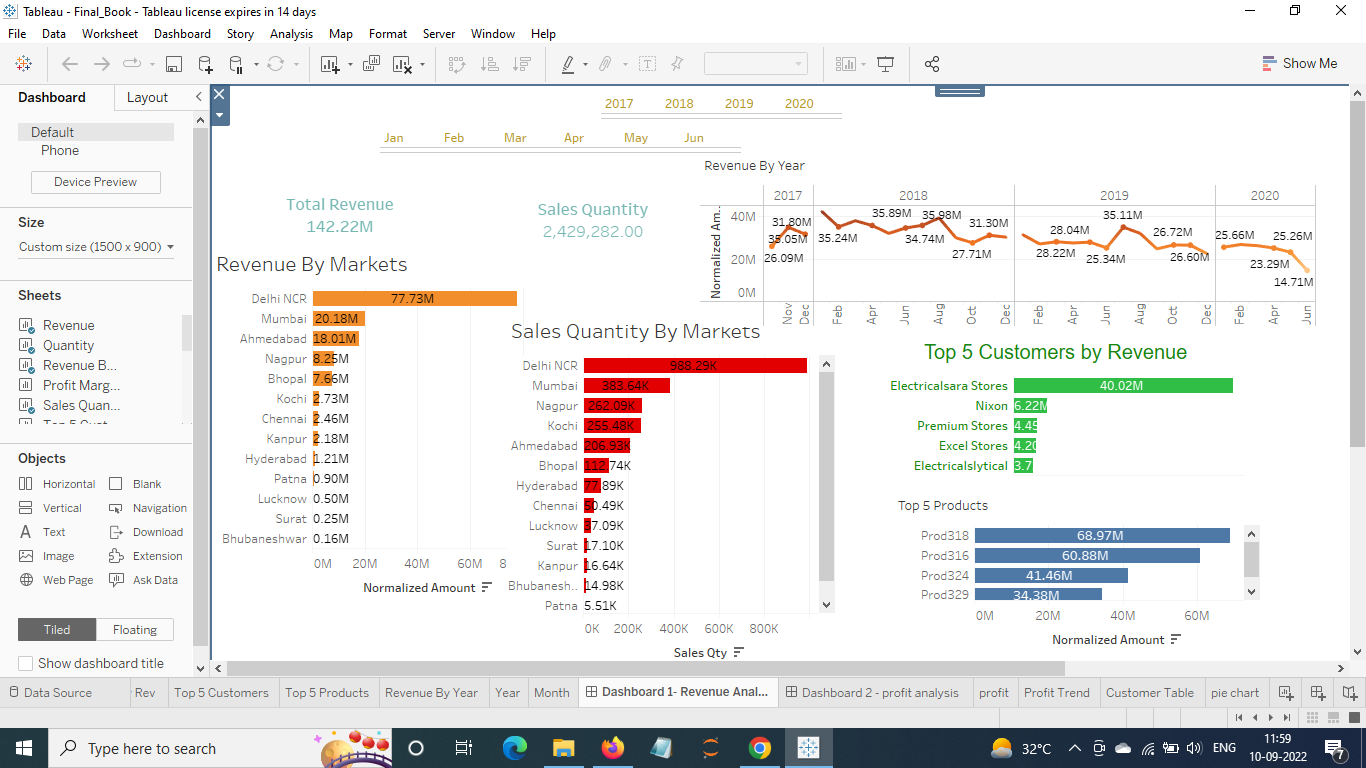

The page's visual inventory and layout, read from the dashboard file:
{"tool":"tableau","page":{"name":"Dashboard 1- Revenue Analysis","canvas":[1500,900],"ordinal":0},"visuals":[{"type":"worksheet","title":"Year","mark":"Automatic","cols":["cy_date"],"box":[391,9,248,53]},{"type":"worksheet","title":"Month","mark":"Automatic","cols":["cy_date"],"box":[170,43,798,72]},{"type":"worksheet","title":"Revenue By Year","mark":"Automatic","rows":["Calculation_508062340302868480"],"cols":["cy_date","cy_date"],"box":[490,68,616,175]},{"type":"worksheet","title":"Revenue","mark":"Automatic","box":[70,98,208,85]},{"type":"worksheet","title":"Quantity","mark":"Automatic","box":[323,113,204,81]},{"type":"worksheet","title":"Revenue By Markets","mark":"Automatic","rows":["markets_name"],"cols":["Calculation_508062340302868480"],"box":[2,161,315,447]},{"type":"worksheet","title":"Sales Quantity By Markets","mark":"Automatic","rows":["markets_name"],"cols":["sales_qty"],"box":[297,228,328,356]},{"type":"worksheet","title":"Top 5 Customers by Rev","mark":"Automatic","rows":["custmer_name"],"cols":["Calculation_279223229870252032"],"box":[663,253,371,192]},{"type":"worksheet","title":"Top 5 Products","mark":"Automatic","rows":["product_code"],"cols":["Calculation_508062340302868480"],"box":[684,408,366,163]}]}

Visuals, with their boxes on the page's 1500x900 design canvas (x1, y1, x2, y2). These are canvas units, not pixel positions in the 1366x768 screenshot, which may show the page scaled, cropped or inside an application window:
"Year" worksheet: 391:9:639:62
"Month" worksheet: 170:43:968:115
"Revenue By Year" worksheet: 490:68:1106:243
"Revenue" worksheet: 70:98:278:183
"Quantity" worksheet: 323:113:527:194
"Revenue By Markets" worksheet: 2:161:317:608
"Sales Quantity By Markets" worksheet: 297:228:625:584
"Top 5 Customers by Rev" worksheet: 663:253:1034:445
"Top 5 Products" worksheet: 684:408:1050:571
